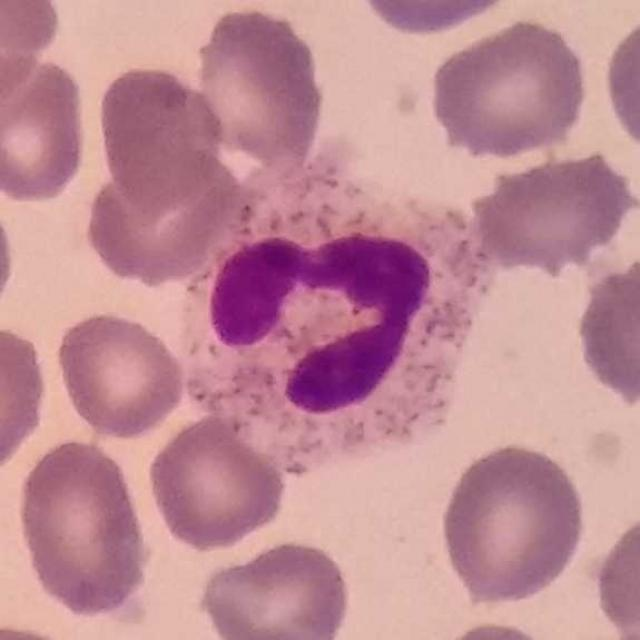Neutrophil: (173, 162, 485, 467)
RBC: (11, 434, 157, 621), (434, 438, 591, 609), (425, 15, 593, 162), (188, 1, 330, 169), (80, 147, 249, 287), (465, 146, 639, 274), (144, 411, 290, 553), (92, 60, 228, 210), (51, 307, 189, 442), (195, 535, 355, 640), (0, 51, 93, 205), (570, 250, 640, 408), (0, 319, 52, 477), (589, 504, 640, 639), (351, 0, 524, 38), (0, 0, 63, 103), (600, 7, 640, 164), (426, 616, 567, 640), (0, 185, 19, 329)
